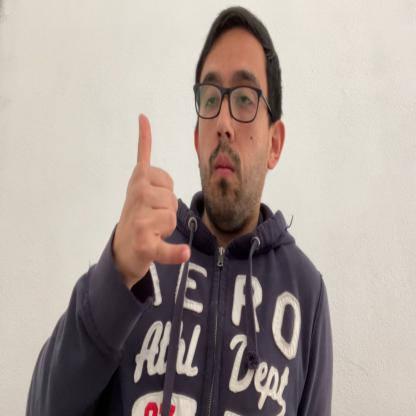Y: (122, 112, 190, 276)
